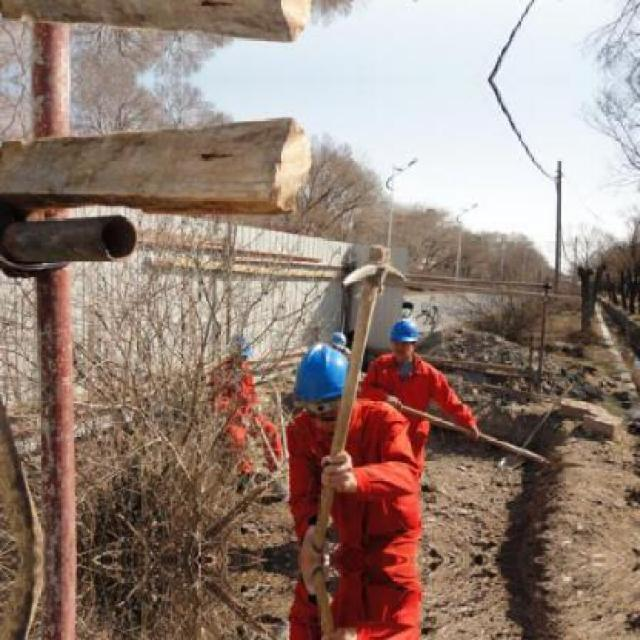Safety-Helmet: (282, 337, 363, 411), (380, 312, 429, 352), (217, 328, 265, 368)
